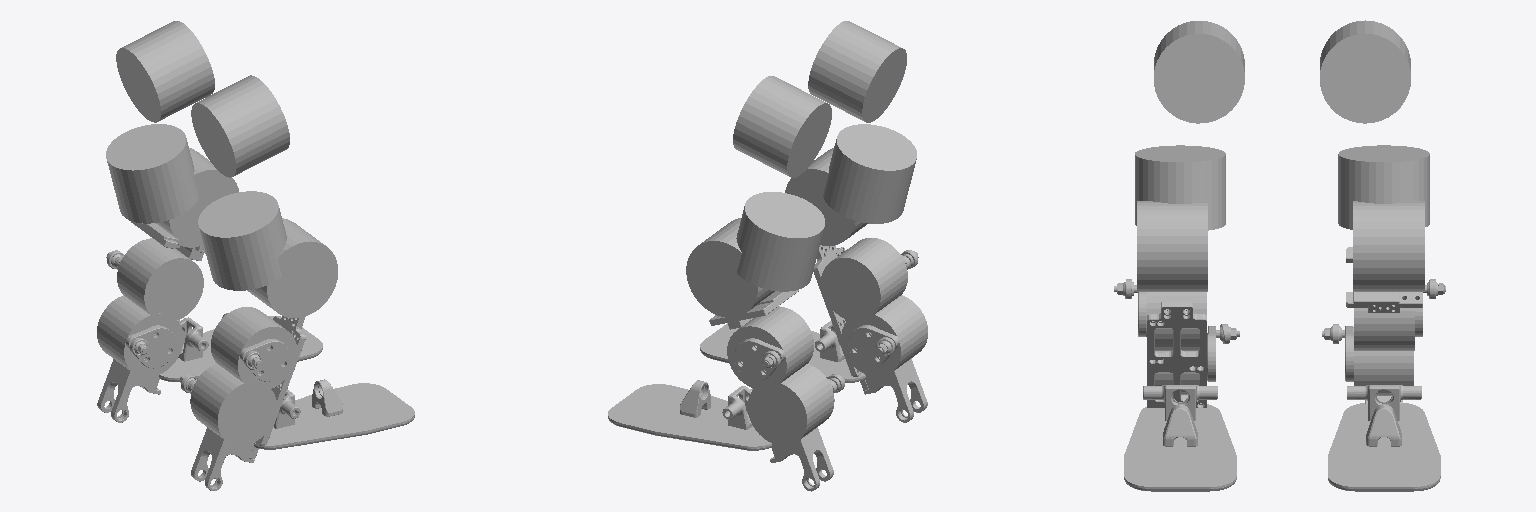
robot.urdf — pi_12dof_release_v1:
<?xml version="1.0" encoding="utf-8"?>
<robot name="pi_12dof_release_v1">
	<mujoco>
		<compiler meshdir="../meshes/" balanceinertia="true" discardvisual="false" />
	</mujoco>
	<link name="base_link">
		<inertial>
			<origin xyz="0.00242324 -5.699E-05 0.04030078" rpy="0 0 0" />
			<mass value="2.1609" />
			<inertia ixx="0.00900968" ixy="-2.533E-05" ixz="-0.00013112" iyy="0.00978166" iyz="2E-07" izz="0.00416554" />
		</inertial>
		<visual>
			<origin xyz="0 0 0" rpy="0 0 0" />
			<geometry>
				<!-- <box size="0.1 0.1 0.1" /> -->
				<mesh filename="../meshes/baselink_1.STL" />
			</geometry>
			<material name="">
				<color rgba="1 1 1 1" />
			</material>
		</visual>
		<collision>
			<origin xyz="0 0 0.08" rpy="0 0 0" />
			<geometry>
				<box size="0.1 0.1 0.1" />
				<!-- <mesh filename="../meshes/base_link.STL" /> -->
			</geometry>
		</collision>
	</link>
<!-- right leg -->
	<link name="r_hip_pitch_link">
		<inertial>
			<origin xyz="0.00089428 -0.05527744 -0.00027276" rpy="0 0 0" />
			<mass value="0.36999771" />
			<inertia ixx="8.307E-05" ixy="2E-07" ixz="-5E-08" iyy="9.81E-05" iyz="-7E-07" izz="0.0001085" />
		</inertial>
		<visual>
			<origin xyz="0 0 0" rpy="0 0 0" />
			<geometry>
				<mesh filename="../meshes/r_hip_pitch_link.STL" />
			</geometry>
			<material name="">
				<color rgba="0.75294 0.75294 0.75294 1" />
			</material>
		</visual>
		<collision>
			<origin xyz="0 0 0" rpy="0 0 0" />
			<geometry>
				<box size="0.001 0.001 0.001" />
				<!-- <mesh filename="../meshes/r_hip_pitch_link.STL" /> -->
			</geometry>
		</collision>
	</link>
	<joint name="r_hip_pitch_joint" type="revolute">
		<origin xyz="-5.1979E-05 -0.0233 -0.033" rpy="0 -0.25 0" />
		<parent link="base_link" />
		<child link="r_hip_pitch_link" />
		<axis xyz="0 1 0" />
		<limit lower="-1.25" upper="1.75" effort="15"  velocity="5" />
	</joint>
	<link name="r_hip_roll_link">
		<inertial>
			<origin xyz="-0.00180153 0.00025956 -0.0608194" rpy="0 0 0" />
			<mass value="0.38851552" />
			<inertia ixx="0.00027042" ixy="3.9E-07" ixz="3.312E-05" iyy="0.0003342" iyz="8.7E-07" izz="0.00013617" />
		</inertial>
		<visual>
			<origin xyz="0 0 0" rpy="0 0 0" />
			<geometry>
				<mesh filename="../meshes/r_hip_roll_link.STL" />
			</geometry>
			<material name="">
				<color rgba="0.75294 0.75294 0.75294 1" />
			</material>
		</visual>
		<collision>
			<origin xyz="0 0 0" rpy="0 0 0" />
			<geometry>
				<box size="0.001 0.001 0.001" />
				<!-- <mesh filename="../meshes/r_hip_roll_link.STL" /> -->
			</geometry>
		</collision>
	</link>
	<joint name="r_hip_roll_joint" type="revolute">
		<origin xyz="0.00025 -0.0568 0" rpy="0 0 0" />
		<parent link="r_hip_pitch_link" />
		<child link="r_hip_roll_link" />
		<axis xyz="1 0 0" />
		<limit lower="-0.5" upper="0.12" effort="15"  velocity="5" />
	</joint>
	<link name="r_thigh_link">
		<inertial>
			<origin xyz="0 0.00116854 -0.04755896" rpy="0 0 0" />
			<mass value="0.11270879" />
			<inertia ixx="0.00012496" ixy="0" ixz="0" iyy="5.82E-05" iyz="3.19E-06" izz="9.438E-05" />
		</inertial>
		<visual>
			<origin xyz="0 0 0" rpy="0 0 0" />
			<geometry>
				<mesh filename="../meshes/r_thigh_link.STL" />
			</geometry>
			<material name="">
				<color rgba="0.75294 0.75294 0.75294 1" />
			</material>
		</visual>
		<collision>
			<origin xyz="0 0 0" rpy="0 0 0" />
			<geometry>
				<box size="0.001 0.001 0.001" />
				<!-- <mesh filename="../meshes/r_thigh_link.STL" /> -->
			</geometry>
		</collision>
	</link>
	<joint name="r_thigh_joint" type="revolute">
		<origin xyz="-0.00025 0 -0.06925" rpy="0 0 0" />
		<parent link="r_hip_roll_link" />
		<child link="r_thigh_link" />
		<axis xyz="0 0 1" />
		<limit lower="-0.6" upper="0.3" effort="15"  velocity="5" />
	</joint>
	<link name="r_calf_link">
		<inertial>
			<origin xyz="-0.00026627 -0.00116537 -0.06971210" rpy="0 0 0" />
			<mass value="0.81374212" />
			<inertia ixx="0.00352123" ixy="0.00000020" ixz="-0.00000072" iyy="0.00349946" iyz="-0.00002072" izz="0.00017468" />
		</inertial>
		<visual>
			<origin xyz="0 0 0" rpy="0 0 0" />
			<geometry>
				<mesh filename="../meshes/r_calf_link.STL" />
			</geometry>
			<material name="">
				<color rgba="0.75294 0.75294 0.75294 1" />
			</material>
		</visual>
		<collision>
			<origin xyz="0 0 0" rpy="0 0 0" />
			<geometry>
				<box size="0.001 0.001 0.001" />
				<!-- <mesh filename="../meshes/r_calf_link.STL" /> -->
			</geometry>
		</collision>
	</link>
	<joint name="r_calf_joint" type="revolute">
		<origin xyz="0 -0.0027 -0.07025" rpy="0 0.65 0" />
		<parent link="r_thigh_link" />
		<child link="r_calf_link" />
		<axis xyz="0 1 0" />
		<limit lower="-0.65" upper="1.65" effort="15"  velocity="5" />
	</joint>
	<link name="r_ankle_pitch_link">
		<inertial>
			<origin xyz="0.00467932 0.00347699 0" rpy="0 0 0" />
			<mass value="0.1759244" />
			<inertia ixx="0.00011981" ixy="6.4E-07" ixz="0" iyy="0.00022179" iyz="0" izz="0.00030766" />
		</inertial>
		<visual>
			<origin xyz="0 0 0" rpy="0 0 0" />
			<geometry>
				<mesh filename="../meshes/r_ankle_pitch_link.STL" />
			</geometry>
			<material name="">
				<color rgba="0.75294 0.75294 0.75294 1" />
			</material>
		</visual>
		<collision>
			<origin xyz="0 0 0" rpy="0 0 0" />
			<geometry>
				<box size="0.078 0.08 0.05" />
				<!-- <mesh filename="../meshes/r_ankle_pitch_link.STL" /> -->
			</geometry>
		</collision>
	</link>
	<joint name="r_ankle_pitch_joint" type="revolute">
		<origin xyz="0 0 -0.14" rpy="0 -0.4 0" />
		<parent link="r_calf_link" />
		<child link="r_ankle_pitch_link" />
		<axis xyz="0 1 0" />
		<limit lower="-0.5" upper="1.3" effort="15"  velocity="5" />
	</joint>
	<link name="r_ankle_roll_link">
		<inertial>
			<origin xyz="-0.02383679 0.00019256 -0.0144649" rpy="0 0 0" />
			<mass value="0.51868476" />
			<inertia ixx="0.0003308" ixy="-2.49E-06" ixz="-0.00018245" iyy="0.00113168" iyz="-1.06E-06" izz="0.00098381" />
		</inertial>
		<visual>
			<origin xyz="0 0 0" rpy="0 0 0" />
			<geometry>
				<mesh filename="../meshes/r_ankle_roll_link.STL" />
			</geometry>
			<material name="">
				<color rgba="0.75294 0.75294 0.75294 1" />
			</material>
		</visual>
		<collision>
			<origin xyz="0 0 0" rpy="0 0 0" />
			<geometry>
				<mesh filename="../meshes/r_ankle_roll_link.STL" />
			</geometry>
		</collision>
	</link>
	<joint name="r_ankle_roll_joint" type="revolute">
		<origin xyz="0.07525 0.0027 0" rpy="0 0 0" />
		<parent link="r_ankle_pitch_link" />
		<child link="r_ankle_roll_link" />
		<axis xyz="1 0 0" />
		<limit lower="-0.15" upper="0.15" effort="15"  velocity="5" />
	</joint>
<!-- left leg -->
	<link name="l_hip_pitch_link">
		<inertial>
			<origin xyz="0.00086268 0.05441908 -0.00025859" rpy="0 0 0" />
			<mass value="0.38968624" />
			<inertia ixx="0.00010076" ixy="-4.2E-07" ixz="-4E-08" iyy="0.00010507" iyz="-3E-07" izz="0.00012834" />
		</inertial>
		<visual>
			<origin xyz="0 0 0" rpy="0 0 0" />
			<geometry>
				<mesh filename="../meshes/l_hip_pitch_link.STL" />
			</geometry>
			<material name="">
				<color rgba="0.75294 0.75294 0.75294 1" />
			</material>
		</visual>
		<collision>
			<origin xyz="0 0 0" rpy="0 0 0" />
			<geometry>
				<box size="0.001 0.001 0.001" />
				<!-- <mesh filename="../meshes/l_hip_pitch_link.STL" /> -->
			</geometry>
		</collision>
	</link>
	<joint name="l_hip_pitch_joint" type="revolute">
		<origin xyz="-5.1979E-05 0.0233 -0.033" rpy="0 -0.25 0" />
		<parent link="base_link" />
		<child link="l_hip_pitch_link" />
		<axis xyz="0 1 0" />
		<limit lower="-1.25" upper="1.75" effort="15"  velocity="5" />
	</joint>
	<link name="l_hip_roll_link">
		<inertial>
			<origin xyz="-0.00207707 0.00026598 -0.0608194" rpy="0 0 0" />
			<mass value="0.36999771" />
			<inertia ixx="0.00027068" ixy="-7.6E-07" ixz="3.136E-05" iyy="0.0003332" iyz="8.8E-07" izz="0.00013543" />
		</inertial>
		<visual>
			<origin xyz="0 0 0" rpy="0 0 0" />
			<geometry>
				<mesh filename="../meshes/l_hip_roll_link.STL" />
			</geometry>
			<material name="">
				<color rgba="0.75294 0.75294 0.75294 1" />
			</material>
		</visual>
		<collision>
			<origin xyz="0 0 0" rpy="0 0 0" />
			<geometry>
				<box size="0.001 0.001 0.001" />
				<!-- <mesh filename="../meshes/l_hip_roll_link.STL" /> -->
			</geometry>
		</collision>
	</link>
	<joint name="l_hip_roll_joint" type="revolute">
		<origin xyz="0 0.0568 0" rpy="0 0 0" />
		<parent link="l_hip_pitch_link" />
		<child link="l_hip_roll_link" />
		<axis xyz="1 0 0" />
		<limit lower="-0.12" upper="0.5" effort="15"  velocity="5" />
	</joint>
	<link name="l_thigh_link">
		<inertial>
			<origin xyz="0 -0.00115822 -0.04755896" rpy="0 0 0" />
			<mass value="0.11270879" />
			<inertia ixx="0.00012497" ixy="0" ixz="0" iyy="5.82E-05" iyz="-3.21E-06" izz="9.438E-05" />
		</inertial>
		<visual>
			<origin xyz="0 0 0" rpy="0 0 0" />
			<geometry>
				<mesh filename="../meshes/l_thigh_link.STL" />
			</geometry>
			<material name="">
				<color rgba="0.75294 0.75294 0.75294 1" />
			</material>
		</visual>
		<collision>
			<origin xyz="0 0 0" rpy="0 0 0" />
			<geometry>
				<box size="0.001 0.001 0.001" />
				<!-- <mesh filename="../meshes/l_thigh_link.STL" /> -->
			</geometry>
		</collision>
	</link>
	<joint name="l_thigh_joint" type="revolute">
		<origin xyz="0 0 -0.06925" rpy="0 0 0" />
		<parent link="l_hip_roll_link" />
		<child link="l_thigh_link" />
		<axis xyz="0 0 1" />
		<limit lower="-0.3" upper="0.6" effort="15"  velocity="5" />
	</joint>
	<link name="l_calf_link">
		<inertial>
			<origin xyz="0.00026627 0.00386537 -0.06971210" rpy="0 0 0" />
			<mass value="0.81374212" />
			<inertia ixx="0.00352123" ixy="0.00000020" ixz="0.00000072" iyy="0.00349946" iyz="0.00002072" izz="0.00017468" />
		</inertial>
		<visual>
			<origin xyz="0 0 0" rpy="0 0 0" />
			<geometry>
				<mesh filename="../meshes/l_calf_link.STL" />
			</geometry>
			<material name="">
				<color rgba="0.75294 0.75294 0.75294 1" />
			</material>
		</visual>
		<collision>
			<origin xyz="0 0 0" rpy="0 0 0" />
			<geometry>
				<box size="0.001 0.001 0.001" />
				<!-- <mesh filename="../meshes/l_calf_link.STL" /> -->
			</geometry>
		</collision>
	</link>
	<joint name="l_calf_joint" type="revolute">
		<origin xyz="0 0 -0.07025" rpy="0 0.65 0" />
		<parent link="l_thigh_link" />
		<child link="l_calf_link" />
		<axis xyz="0 1 0" />
		<limit lower="-0.65" upper="1.65" effort="15"  velocity="5" />
	</joint>
	<link name="l_ankle_pitch_link">
		<inertial>
			<origin xyz="0.00467932 -0.00077699 0" rpy="0 0 0" />
			<mass value="0.1759244" />
			<inertia ixx="0.00011981" ixy="-6.4E-07" ixz="0" iyy="0.00022179" iyz="0" izz="0.00030766" />
		</inertial>
		<visual>
			<origin xyz="0 0 0" rpy="0 0 0" />
			<geometry>
				<mesh filename="../meshes/l_ankle_pitch_link.STL" />
			</geometry>
			<material name="">
				<color rgba="0.75294 0.75294 0.75294 1" />
			</material>
		</visual>
		<collision>
			<origin xyz="0 0 0" rpy="0 0 0" />
			<geometry>
				<box size="0.078 0.08 0.05" />
				<!-- <mesh filename="../meshes/l_ankle_pitch_link.STL" /> -->
			</geometry>
		</collision>
	</link>
	<joint name="l_ankle_pitch_joint" type="revolute">
		<origin xyz="0 0 -0.14" rpy="0 -0.4 0" />
		<parent link="l_calf_link" />
		<child link="l_ankle_pitch_link" />
		<axis xyz="0 1 0" />
		<limit lower="-0.5" upper="1.3" effort="15"  velocity="5" />
	</joint>
	<link name="l_ankle_roll_link">
		<inertial>
			<origin xyz="-0.02383679 0.00019256 -0.0144649" rpy="0 0 0" />
			<mass value="0.51868476" />
			<inertia ixx="0.0003308" ixy="-2.49E-06" ixz="-0.00018245" iyy="0.00113168" iyz="-1.06E-06" izz="0.00098381" />
		</inertial>
		<visual>
			<origin xyz="0 0 0" rpy="0 0 0" />
			<geometry>
				<mesh filename="../meshes/l_ankle_roll_link.STL" />
			</geometry>
			<material name="">
				<color rgba="0.75294 0.75294 0.75294 1" />
			</material>
		</visual>
		<collision>
			<origin xyz="0 0 0" rpy="0 0 0" />
			<geometry>
				<mesh filename="../meshes/l_ankle_roll_link.STL" />
			</geometry>
		</collision>
	</link>
	<joint name="l_ankle_roll_joint" type="revolute">
		<origin xyz="0.07525 0 0" rpy="0 0 0" />
		<parent link="l_ankle_pitch_link" />
		<child link="l_ankle_roll_link" />
		<axis xyz="1 0 0" />
		<limit lower="-0.15" upper="0.15" effort="15"  velocity="5" />
	</joint>
</robot>

--- Render facts (derived) ---
Views: 3 orthographic renders of the robot side by side, from view 1: azimuth 30°, elevation 25°; view 2: azimuth 150°, elevation 25°; view 3: azimuth 270°, elevation 25°.
Model pi_12dof_release_v1 with 13 links and 12 joints (12 revolute), rooted at base_link, posed every joint at zero.
Visible links, largest first — view 1: r_calf_link, l_calf_link, l_hip_roll_link, r_hip_roll_link, r_hip_pitch_link, l_hip_pitch_link, r_ankle_roll_link, l_ankle_roll_link; view 2: l_calf_link, r_calf_link, r_hip_roll_link, l_hip_roll_link, l_ankle_roll_link, r_hip_pitch_link, l_hip_pitch_link, r_ankle_roll_link; view 3: l_calf_link, r_calf_link, l_ankle_roll_link, r_ankle_roll_link, l_hip_pitch_link, r_hip_pitch_link, l_hip_roll_link, r_hip_roll_link.
Link boxes in pixels (<box>): r_calf_link: <box>180,218,337,490</box>; l_calf_link: <box>97,148,238,422</box>; l_hip_roll_link: <box>106,124,198,223</box>; r_hip_roll_link: <box>198,191,286,290</box>; r_hip_pitch_link: <box>191,75,289,177</box>; l_hip_pitch_link: <box>116,21,214,122</box>; r_ankle_roll_link: <box>254,379,414,449</box>; l_ankle_roll_link: <box>159,313,322,381</box>; l_calf_link: <box>686,218,844,491</box>; r_calf_link: <box>785,148,927,422</box>; r_hip_roll_link: <box>823,124,916,223</box>; l_hip_roll_link: <box>736,192,824,291</box>; l_ankle_roll_link: <box>608,380,771,450</box>; r_hip_pitch_link: <box>808,21,906,122</box>; l_hip_pitch_link: <box>733,76,831,177</box>; r_ankle_roll_link: <box>700,321,865,382</box>; l_calf_link: <box>1322,201,1445,403</box>; r_calf_link: <box>1114,201,1239,407</box>; l_ankle_roll_link: <box>1328,385,1440,491</box>; r_ankle_roll_link: <box>1124,385,1236,491</box>; l_hip_pitch_link: <box>1320,20,1410,123</box>; r_hip_pitch_link: <box>1154,21,1244,123</box>; l_hip_roll_link: <box>1338,145,1429,229</box>; r_hip_roll_link: <box>1135,145,1225,230</box>.
Bounding box of the posed robot: 0.202 × 0.261 × 0.3689 m (x, y, z).
10 mesh visuals loaded from 13 distinct referenced files (10 binary STL); not drawn: 1 (reference not matched to a file when rendering), 2 (file found but could not be loaded).